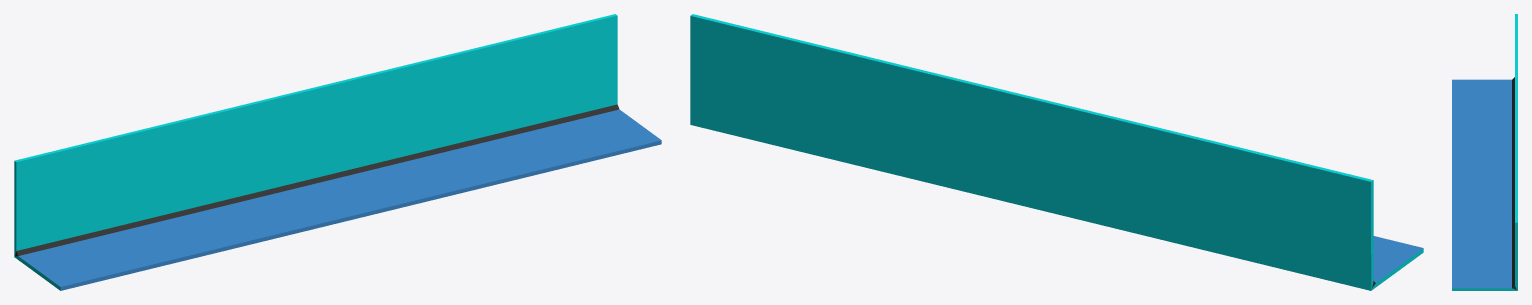
The model's file is background.fbx.
3 views of the same model, side by side, from view 1: azimuth 30°, elevation 25°; view 2: azimuth 150°, elevation 25°; view 3: azimuth 270°, elevation 25° (orthographic). The views are drawn at different scales.
Parts seen in each view (by area): view 1: Plane.001; view 2: Plane.001; view 3: Plane.001.
Part boxes in pixels (x1,y1,x2,y2): Plane.001: [14, 14, 661, 290]; Plane.001: [690, 14, 1423, 290]; Plane.001: [1452, 14, 1517, 290].
Size of the model in its own units: 188 by 215 by 1405.
